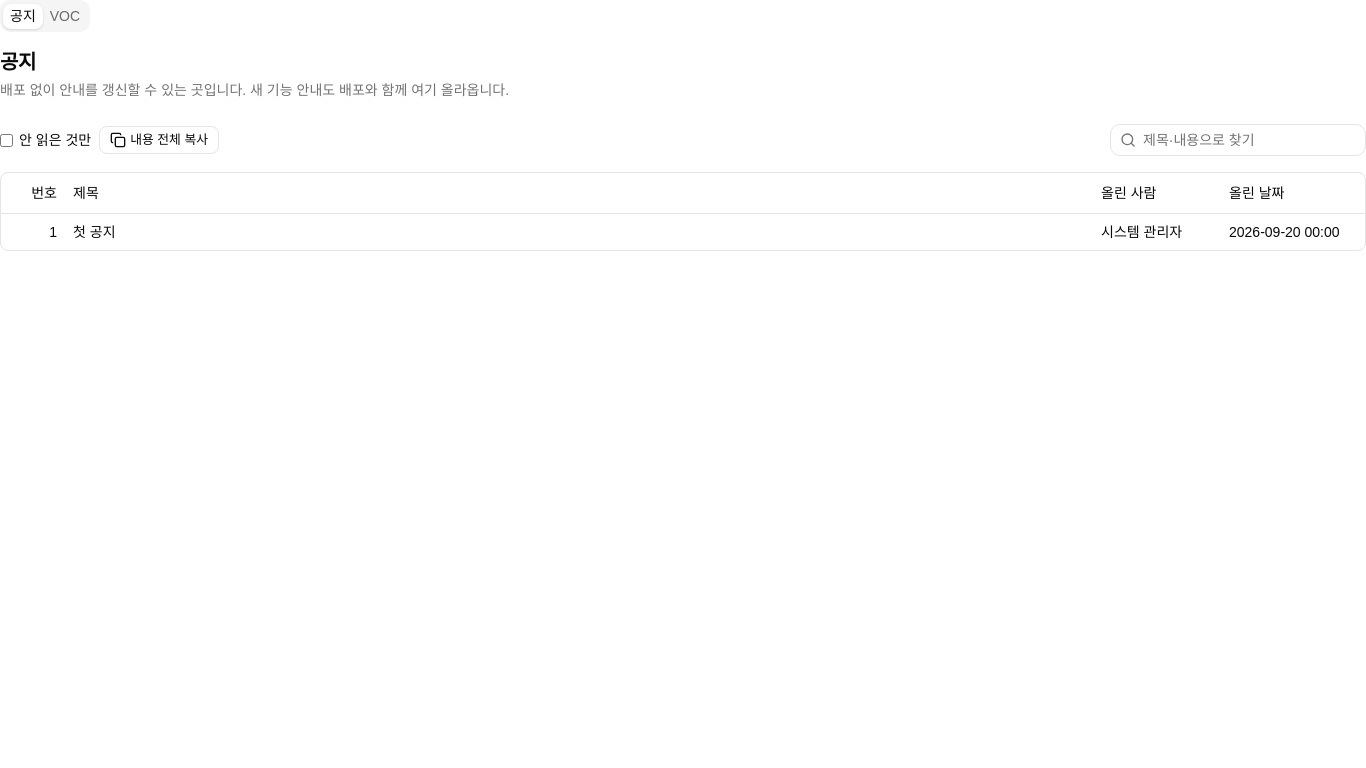
Test: 내용 전체 복사 › 브라우저가 복사를 막으면 직접 고르는 길을 말한다
The width and height of the screenshot is (1366, 768).
Click the button "내용 전체 복사" at (159, 140), box [99, 126, 219, 154]
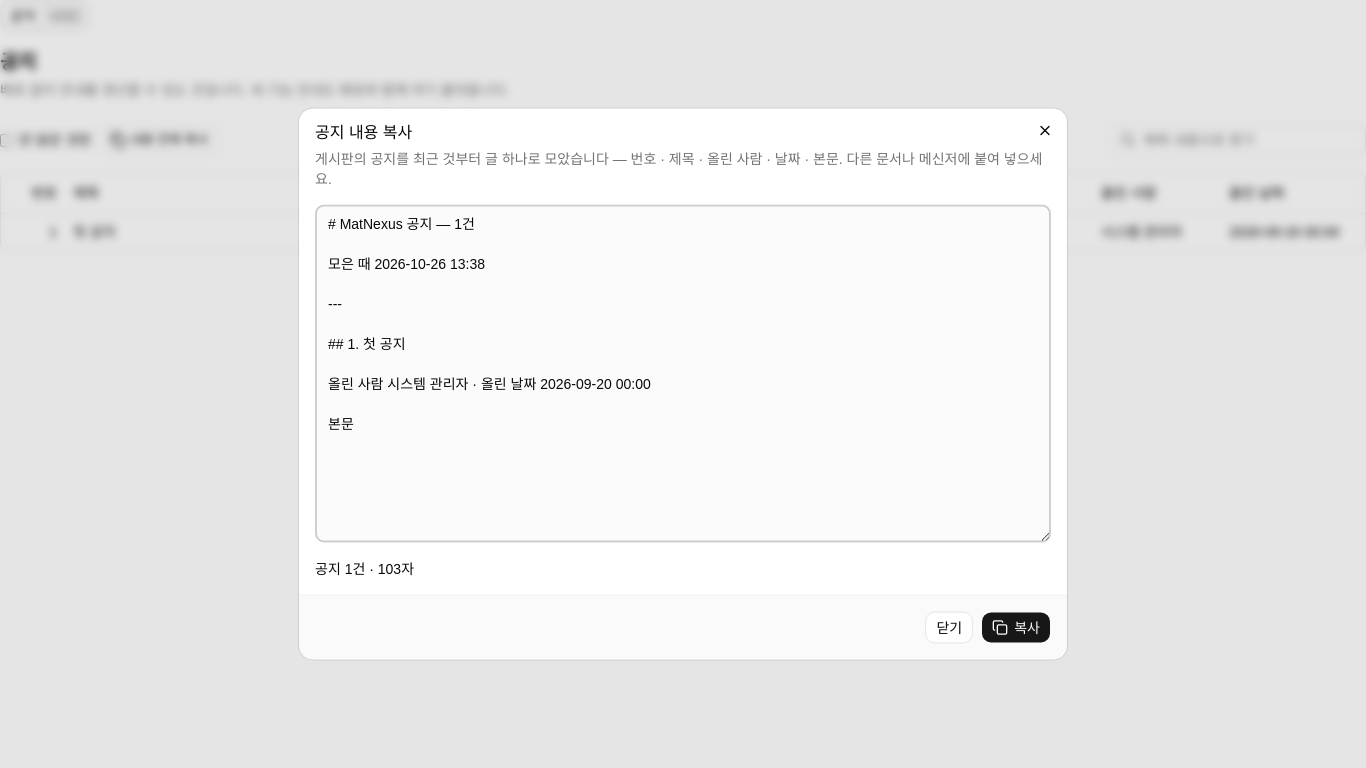
Click the button "복사" at (1016, 628), box [981, 612, 1051, 644]
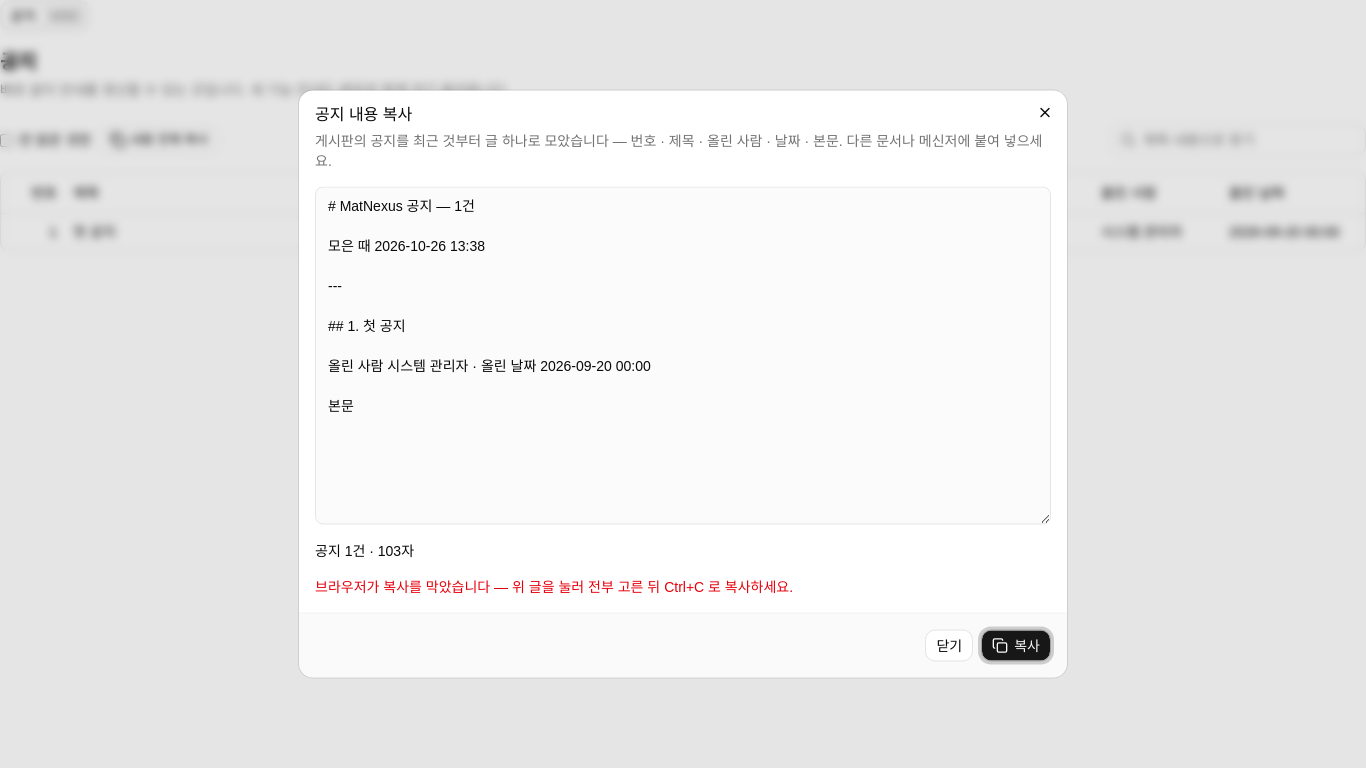
Result: the message "브라우저가 복사를 막았습니다 — 위 글을 눌러 전부 고른 뒤 Ctrl+C 로 복사하세요." is shown at [315, 578, 793, 594]
